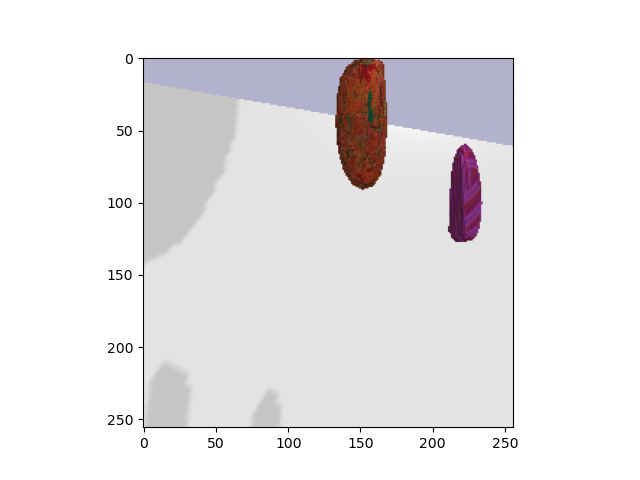v249b387_105: (442, 137, 493, 248)
v249b387_106: (330, 57, 394, 193)
